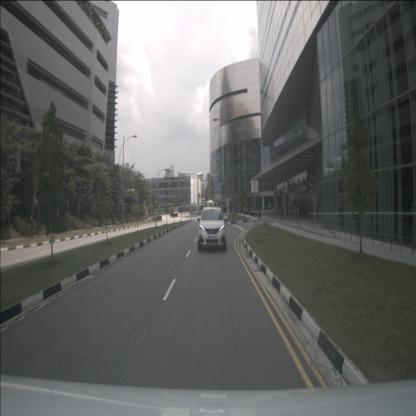human-pedestrian-adult: (30, 216, 35, 238)
vehicle-car: (198, 206, 226, 251)
vehicle-truck: (170, 207, 178, 217)
